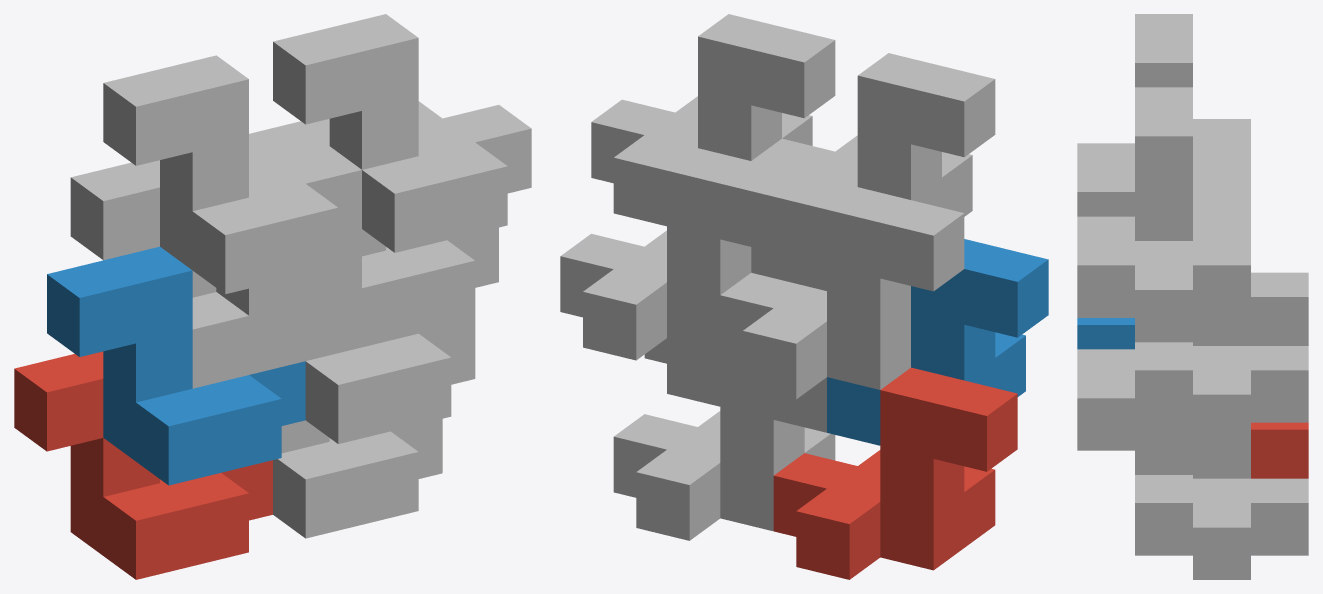
Rendered from tiling.obj.
The picture shows the model from 3 angles, left to right: view 1: azimuth 30°, elevation 25°; view 2: azimuth 150°, elevation 25°; view 3: azimuth 270°, elevation 25°; orthographic projection. The views are drawn at different scales.
Parts seen in each view (by area): view 1: copy_1_domain_4, copy_1_domain_8, copy_1_domain_2, copy_1_domain_1, copy_1_domain_6, copy_1_domain_3, copy_1_domain_5, copy_1_domain_7; view 2: copy_1_domain_1, copy_1_domain_3, copy_1_domain_7, copy_1_domain_8, copy_1_domain_4, copy_1_domain_5, copy_1_domain_2, copy_1_domain_6; view 3: copy_1_domain_8, copy_1_domain_7, copy_1_domain_5, copy_1_domain_4, copy_1_domain_6, copy_1_domain_3, copy_1_domain_1, copy_1_domain_2.
Boxes of the visible parts, x1,y1,x2,y2 form: copy_1_domain_4: [103, 55, 361, 294]; copy_1_domain_8: [273, 14, 531, 252]; copy_1_domain_2: [47, 246, 305, 485]; copy_1_domain_1: [14, 351, 272, 579]; copy_1_domain_6: [216, 229, 475, 443]; copy_1_domain_3: [70, 160, 305, 388]; copy_1_domain_5: [273, 419, 442, 538]; copy_1_domain_7: [249, 119, 498, 347]; copy_1_domain_1: [773, 367, 1017, 579]; copy_1_domain_3: [720, 187, 964, 399]; copy_1_domain_7: [560, 148, 803, 360]; copy_1_domain_8: [591, 14, 835, 226]; copy_1_domain_4: [751, 53, 995, 265]; copy_1_domain_5: [613, 351, 835, 540]; copy_1_domain_2: [827, 239, 1048, 445]; copy_1_domain_6: [644, 247, 826, 406]; copy_1_domain_8: [1077, 87, 1250, 342]; copy_1_domain_7: [1135, 192, 1308, 447]; copy_1_domain_5: [1135, 450, 1308, 579]; copy_1_domain_4: [1077, 14, 1250, 216]; copy_1_domain_6: [1077, 349, 1250, 474]; copy_1_domain_3: [1193, 119, 1308, 345]; copy_1_domain_1: [1251, 422, 1308, 478]; copy_1_domain_2: [1077, 318, 1134, 349].
Bounding box in the file's own units: 8 × 8 × 4.
